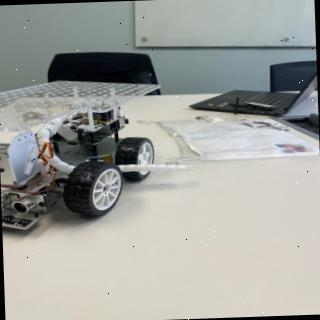vehicle: (1, 79, 161, 242)
